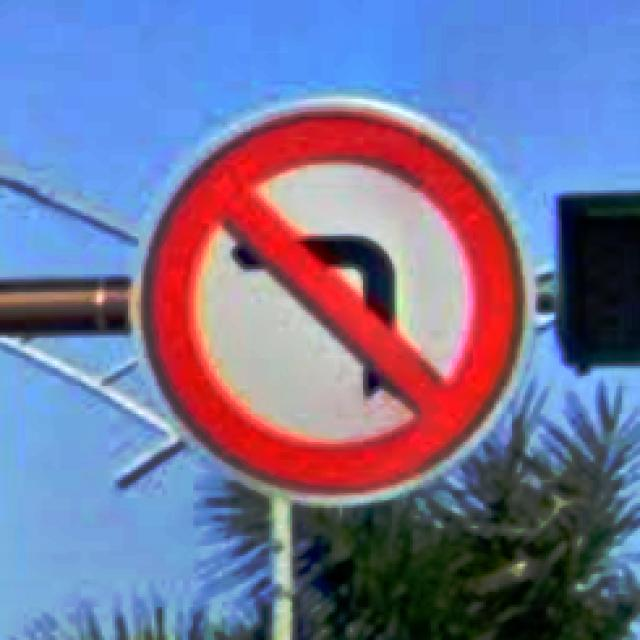noturnleft: (133, 91, 533, 508)
